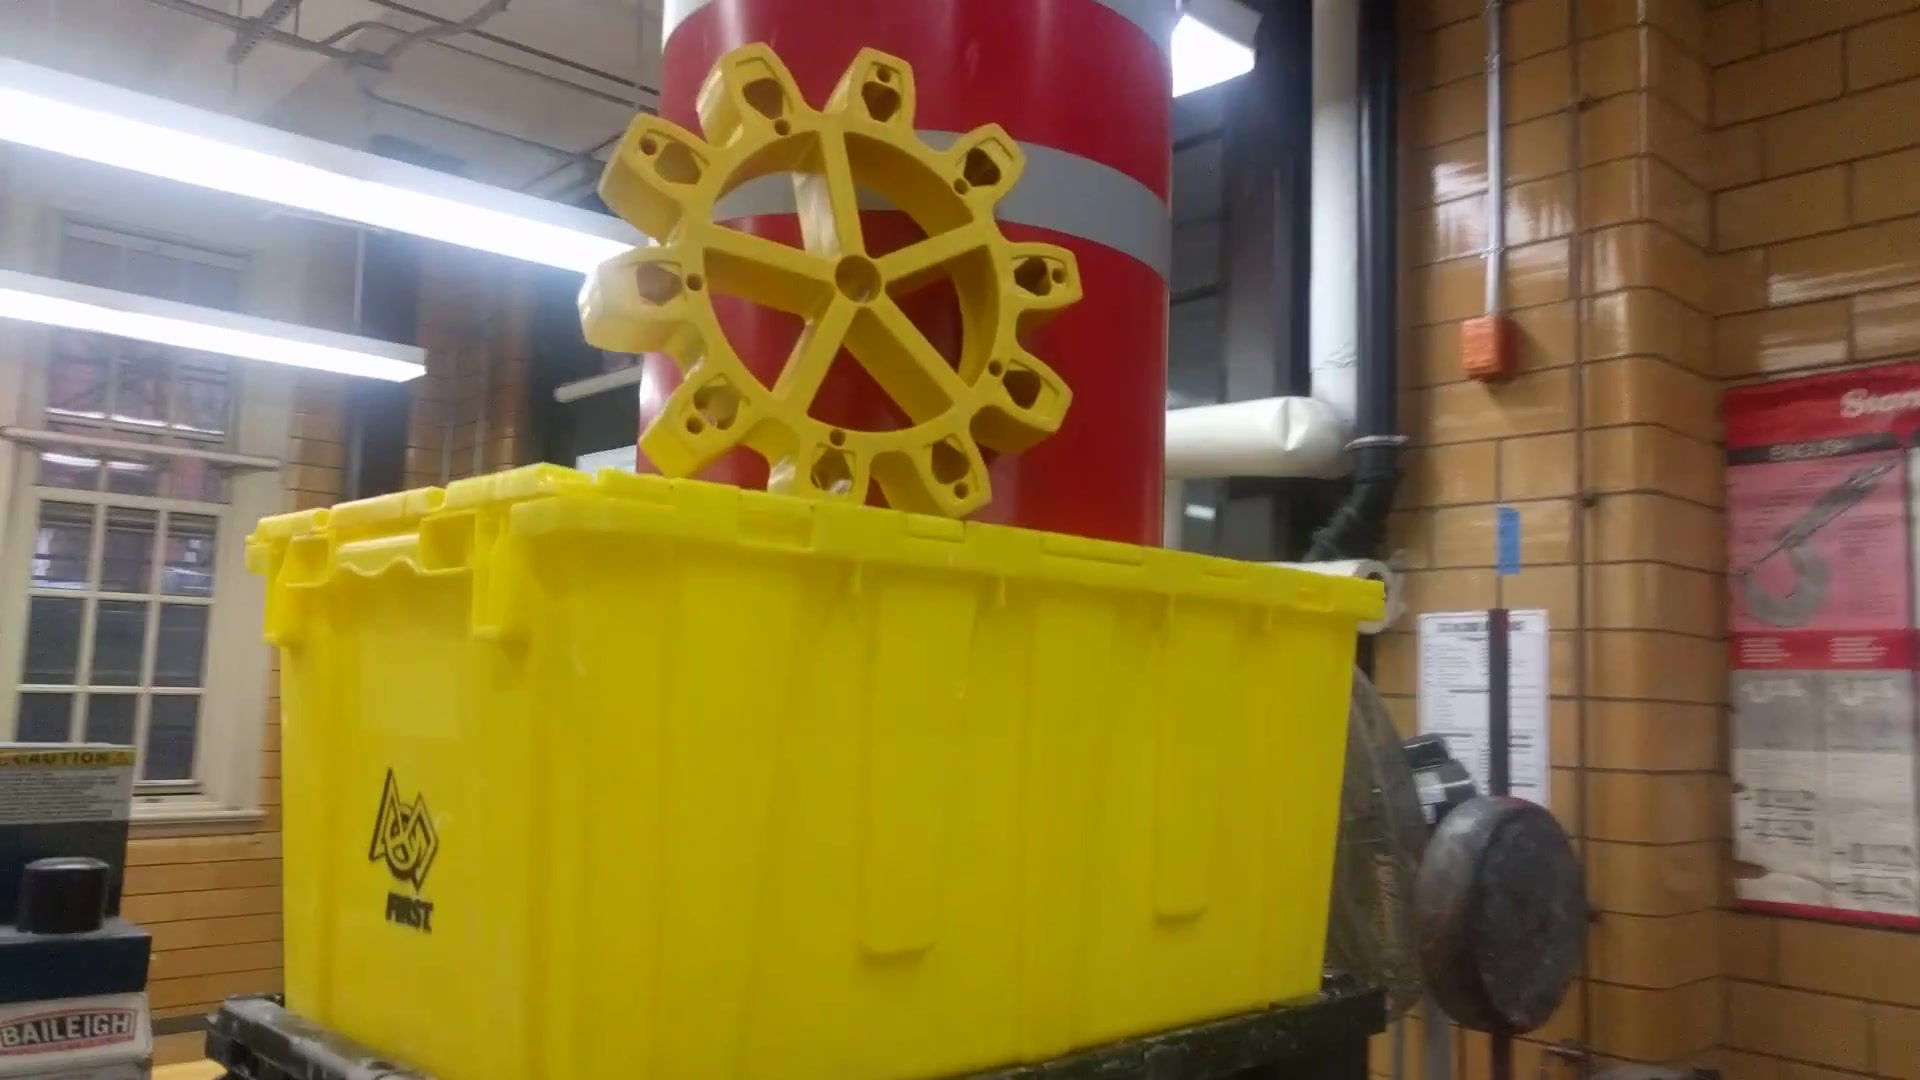gear: (591, 16, 1085, 545)
